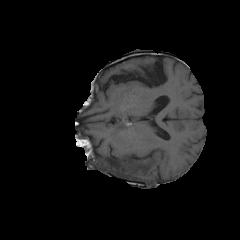glioma: (83, 140, 157, 183)
